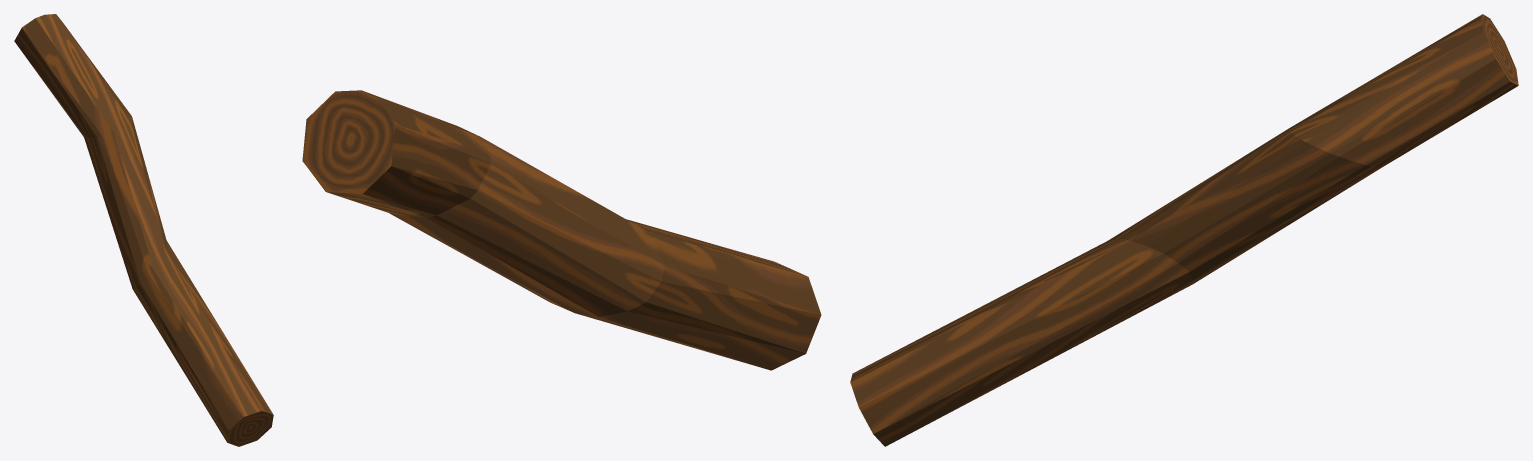
File: Stick-1.glb
3 renders of one model, left to right at view 1: azimuth 30°, elevation 25°; view 2: azimuth 150°, elevation 25°; view 3: azimuth 270°, elevation 25°, orthographic. The views are drawn at different scales.
Parts seen in each view (by area): view 1: Stick-1; view 2: Stick-1; view 3: Stick-1.
Boxes of the visible parts, x1,y1,x2,y2 form: Stick-1: (14, 14, 273, 446); Stick-1: (302, 90, 821, 370); Stick-1: (850, 14, 1518, 446).
Size of the model in its own units: 0.17 by 0.7 by 1.
1 material, 1 textured.
